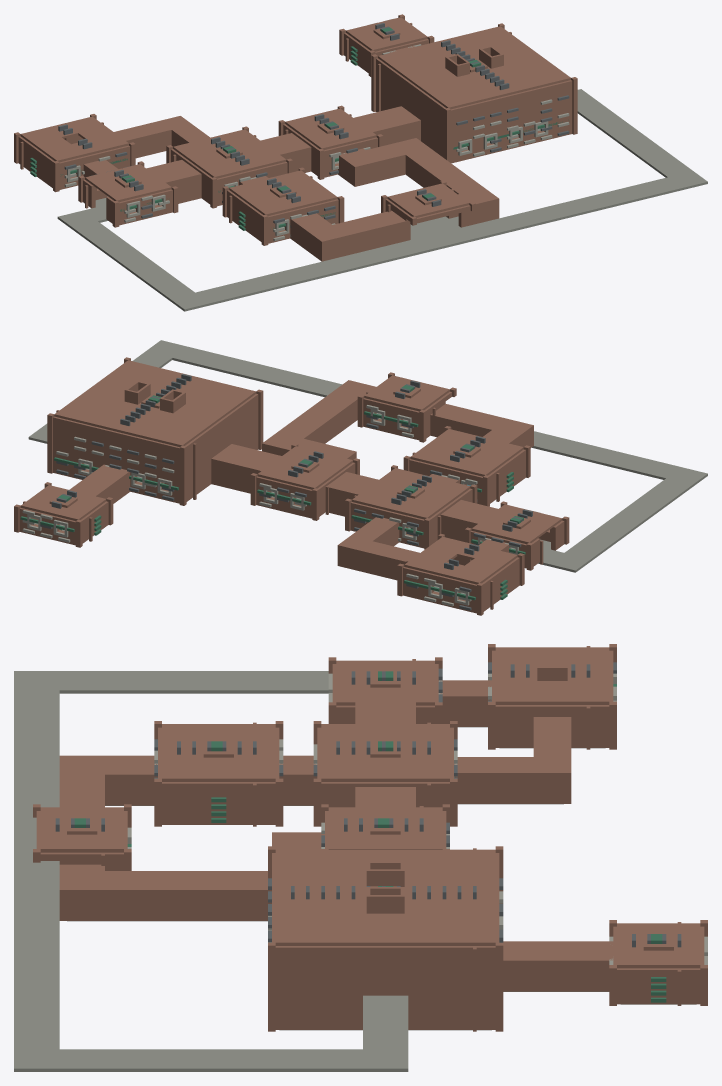
File: floodworks.glb
3 renders of one model, top to bottom at view 1: azimuth 30°, elevation 25°; view 2: azimuth 150°, elevation 25°; view 3: azimuth 270°, elevation 25°, orthographic. The views are drawn at different scales.
Visible parts, largest first — view 1: floodworks/room_walls, floodworks/floor_mesh, floodworks/exterior_details, floodworks/roof_arena, floodworks/corridor_walls, floodworks/roof_workshop, floodworks/roof_cistern, floodworks/roof_production, floodworks/roof_antechamber, floodworks/corridor_roof_11, floodworks/roof_entrance, floodworks/roof_filter_gallery (+9 smaller); view 2: floodworks/room_walls, floodworks/exterior_details, floodworks/floor_mesh, floodworks/roof_arena, floodworks/corridor_walls, floodworks/roof_workshop, floodworks/roof_cistern, floodworks/roof_production, floodworks/roof_antechamber, floodworks/corridor_roof_11, floodworks/roof_entrance, floodworks/roof_filter_gallery (+10 smaller); view 3: floodworks/room_walls, floodworks/floor_mesh, floodworks/roof_arena, floodworks/corridor_walls, floodworks/exterior_details, floodworks/roof_workshop, floodworks/roof_cistern, floodworks/roof_production, floodworks/roof_antechamber, floodworks/corridor_roof_11, floodworks/roof_filter_gallery, floodworks/roof_archive (+12 smaller).
Boxes of the visible parts, bbox=[...] form: floodworks/room_walls: bbox=[18, 33, 572, 243]; floodworks/floor_mesh: bbox=[57, 89, 707, 311]; floodworks/exterior_details: bbox=[14, 14, 577, 245]; floodworks/roof_arena: bbox=[378, 26, 570, 109]; floodworks/corridor_walls: bbox=[83, 122, 499, 261]; floodworks/roof_workshop: bbox=[173, 129, 286, 178]; floodworks/roof_cistern: bbox=[229, 170, 337, 215]; floodworks/roof_production: bbox=[20, 116, 128, 162]; floodworks/roof_antechamber: bbox=[285, 108, 376, 149]; floodworks/corridor_roof_11: bbox=[391, 138, 498, 206]; floodworks/roof_entrance: bbox=[85, 164, 171, 202]; floodworks/roof_filter_gallery: bbox=[387, 183, 469, 217]; floodworks/room_walls: bbox=[19, 391, 564, 613]; floodworks/exterior_details: bbox=[14, 357, 569, 615]; floodworks/floor_mesh: bbox=[28, 340, 707, 594]; floodworks/roof_arena: bbox=[54, 360, 256, 446]; floodworks/corridor_walls: bbox=[98, 402, 533, 580]; floodworks/roof_workshop: bbox=[352, 468, 470, 519]; floodworks/roof_cistern: bbox=[410, 429, 523, 476]; floodworks/roof_production: bbox=[404, 536, 517, 584]; floodworks/roof_antechamber: bbox=[257, 446, 352, 489]; floodworks/corridor_roof_11: bbox=[262, 380, 374, 451]; floodworks/roof_entrance: bbox=[471, 504, 562, 544]; floodworks/roof_filter_gallery: bbox=[364, 375, 449, 411]; floodworks/room_walls: bbox=[36, 650, 704, 1029]; floodworks/floor_mesh: bbox=[14, 671, 696, 1071]; floodworks/roof_arena: bbox=[275, 849, 495, 945]; floodworks/corridor_walls: bbox=[59, 699, 609, 991]; floodworks/exterior_details: bbox=[33, 644, 707, 1031]; floodworks/roof_workshop: bbox=[321, 724, 449, 781]; floodworks/roof_cistern: bbox=[162, 724, 275, 781]; floodworks/roof_production: bbox=[495, 647, 609, 704]; floodworks/roof_antechamber: bbox=[328, 807, 442, 849]; floodworks/corridor_roof_11: bbox=[60, 871, 267, 893]; floodworks/roof_filter_gallery: bbox=[40, 807, 123, 852]; floodworks/roof_archive: bbox=[617, 923, 700, 968].
Size of the model in its own units: 124 by 16.5 by 91.5.
